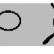no answer: (0, 9, 23, 32)
